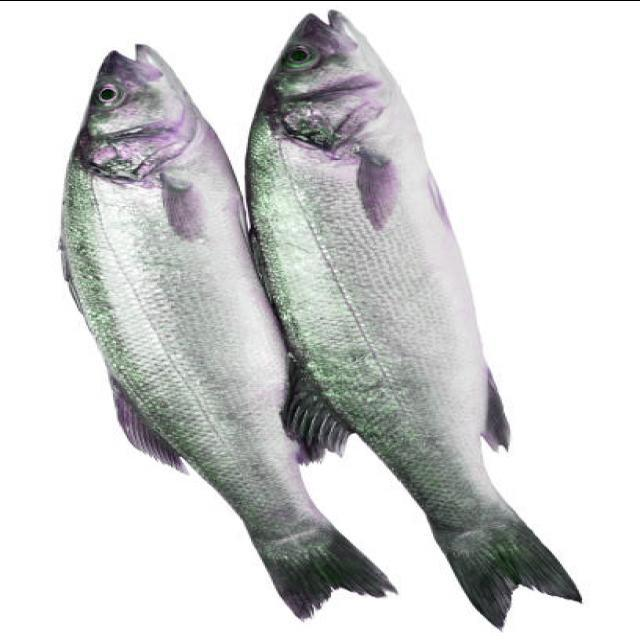Healthy Fish: (58, 13, 582, 622)
